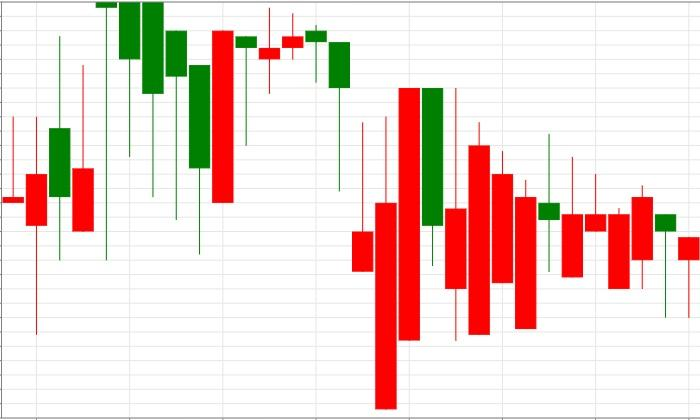inverse_hammer_rise: (282, 12, 373, 272)
